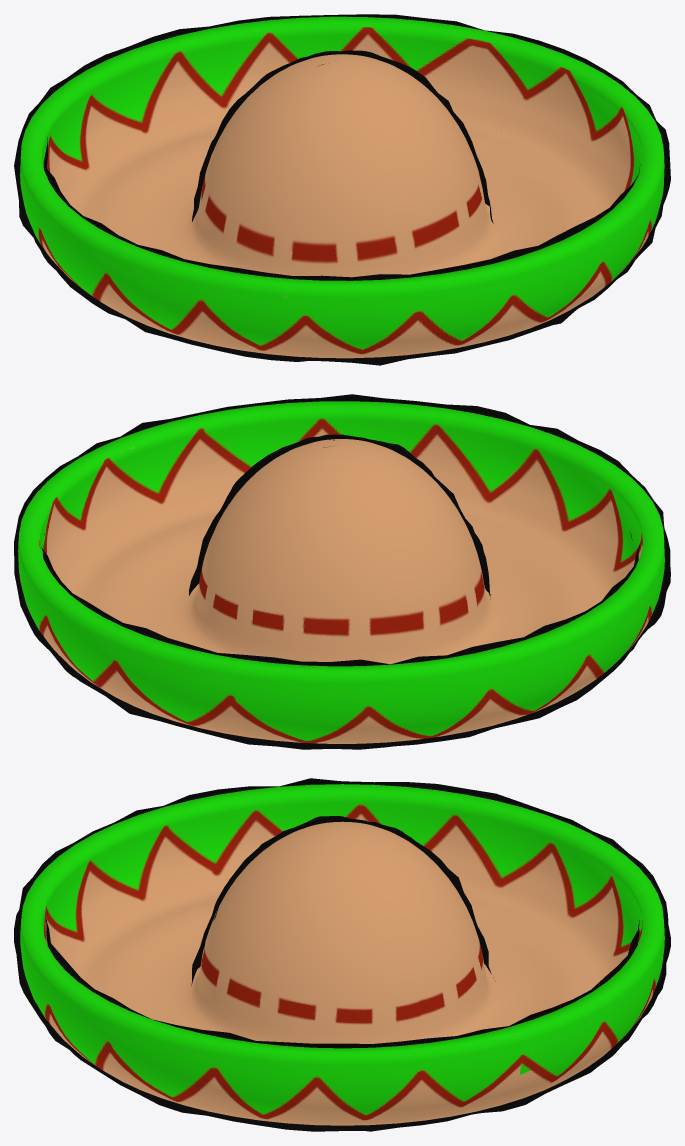
File: sombrero.glb
3 renders of one model, top to bottom at view 1: azimuth 30°, elevation 25°; view 2: azimuth 150°, elevation 25°; view 3: azimuth 270°, elevation 25°, orthographic.
Parts seen in each view (by area): view 1: Sombrero_1, Sil sombrero_0; view 2: Sombrero_1, Sil sombrero_0; view 3: Sombrero_1, Sil sombrero_0.
Boxes of the visible parts, bbox=[...] form: Sombrero_1: bbox=[20, 16, 664, 358]; Sil sombrero_0: bbox=[14, 14, 670, 365]; Sombrero_1: bbox=[18, 401, 664, 743]; Sil sombrero_0: bbox=[14, 394, 670, 749]; Sombrero_1: bbox=[20, 784, 664, 1125]; Sil sombrero_0: bbox=[14, 778, 670, 1131].
Bounding box in the file's own units: 4.52 × 1.5 × 4.52.
2 materials, 1 textured.
